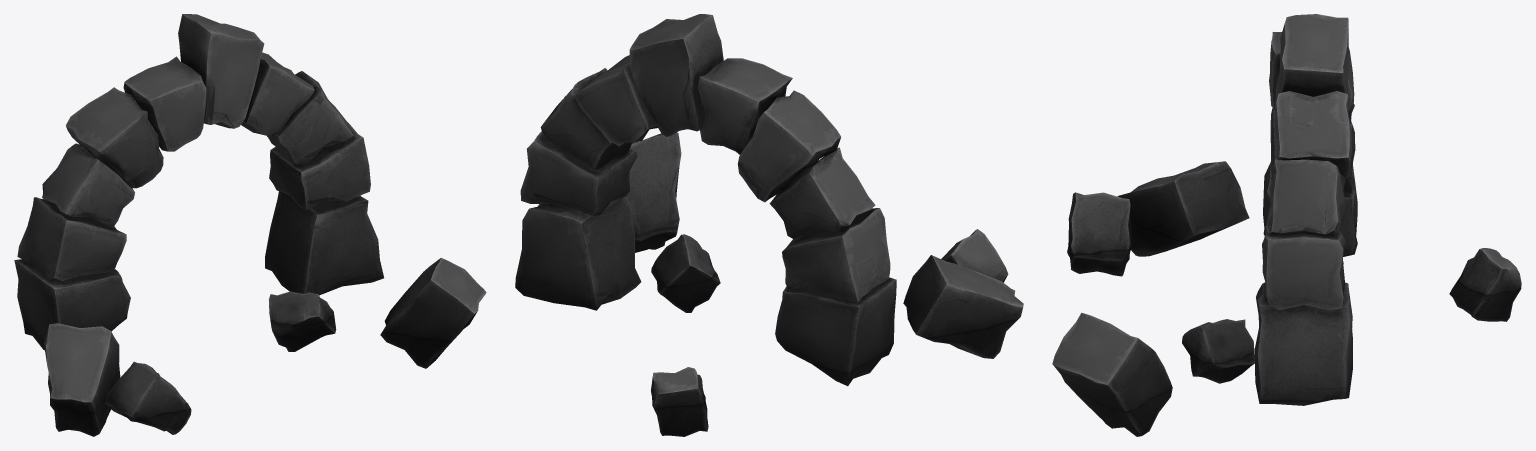
File: portal2.glb
The picture shows the model from 3 angles, left to right: view 1: azimuth 30°, elevation 25°; view 2: azimuth 150°, elevation 25°; view 3: azimuth 270°, elevation 25°; orthographic projection. The views are drawn at different scales.
Visible parts, largest first — view 1: StoneGate_StoneGate_0-col; view 2: StoneGate_StoneGate_0-col; view 3: StoneGate_StoneGate_0-col.
Part boxes in pixels (box(x1,y1,x2,y2)): StoneGate_StoneGate_0-col: box(14, 14, 486, 436); StoneGate_StoneGate_0-col: box(515, 14, 1023, 436); StoneGate_StoneGate_0-col: box(1052, 14, 1521, 436).
Bounding box in the file's own units: 6.97 × 4.99 × 6.22.
1 material, 1 textured.
